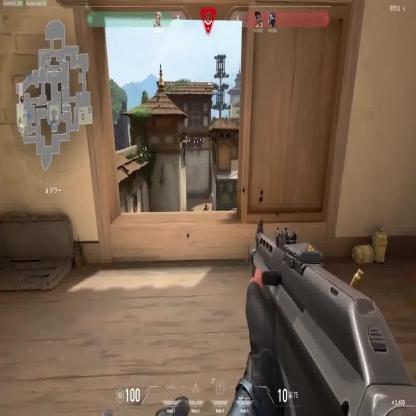enemy: (203, 198, 207, 212)
enemy_head: (204, 197, 206, 201)
